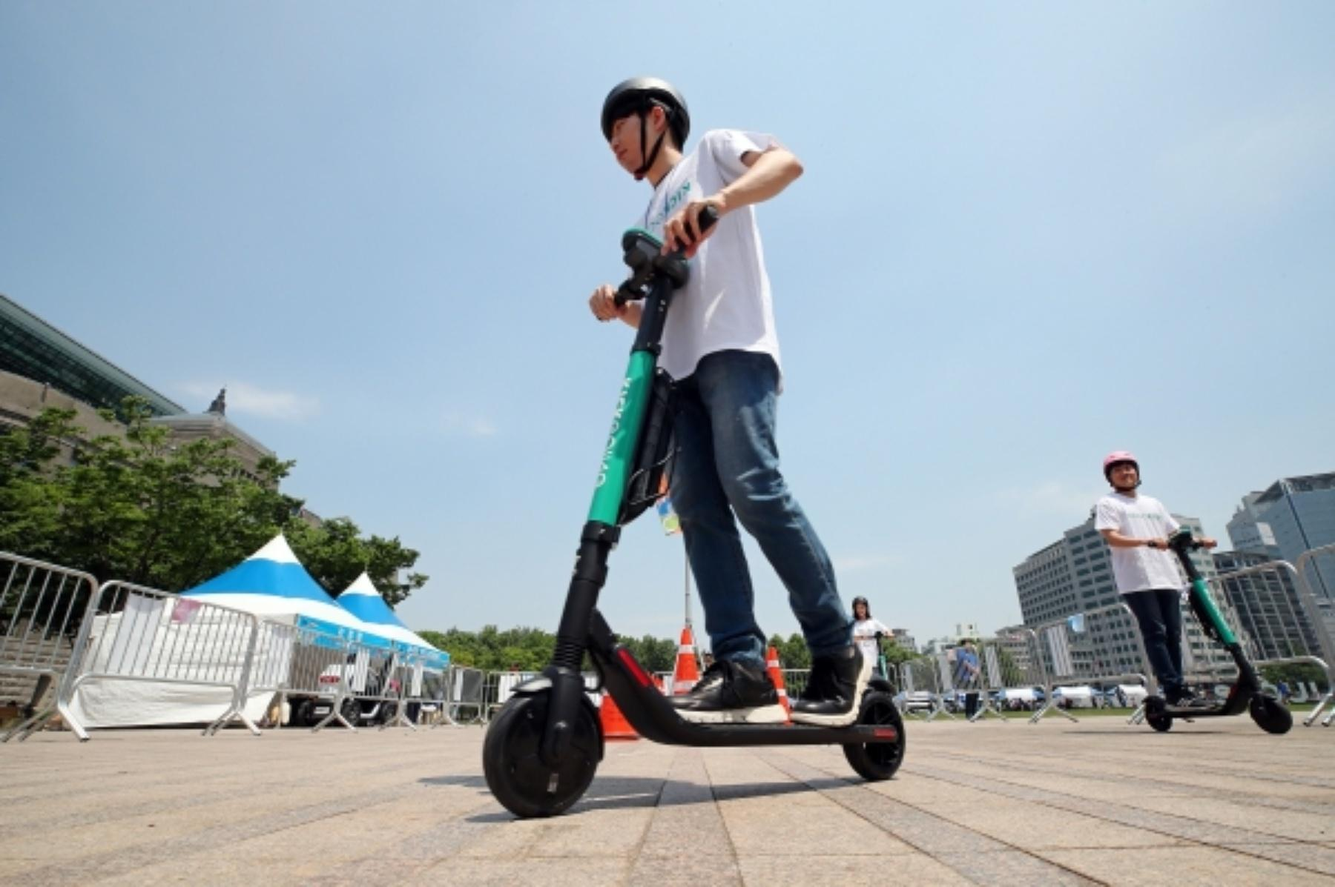helmet: (595, 70, 688, 183)
human: (585, 73, 878, 729)
kickboard: (481, 675, 908, 817)
